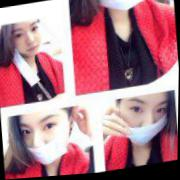NONE: (12, 24, 45, 60)
WRONG: (120, 96, 172, 151), (19, 114, 71, 169)
